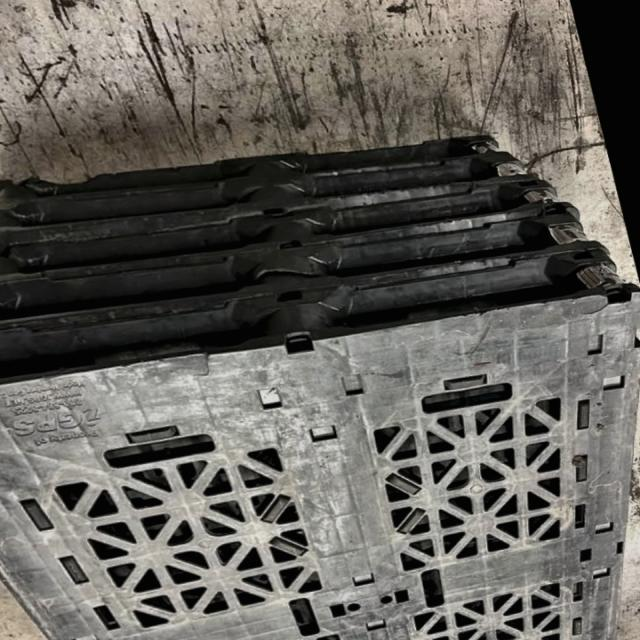igps: (0, 235, 640, 640), (0, 194, 592, 333), (0, 168, 572, 287), (0, 142, 560, 236), (0, 121, 503, 208)
